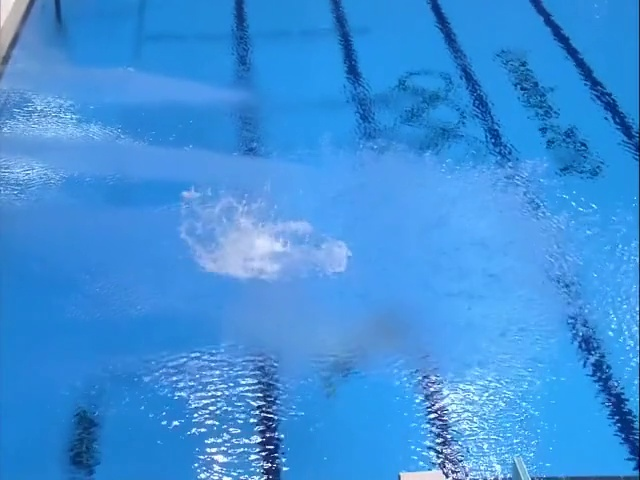splash: (217, 219, 289, 283)
